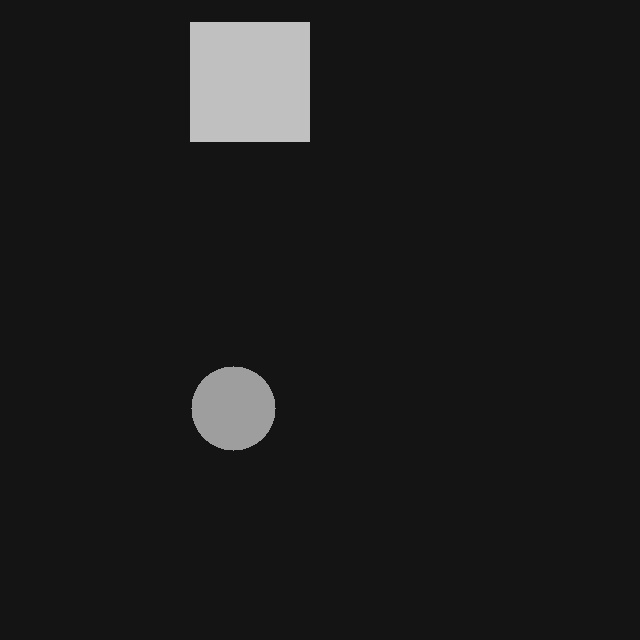circle: (191, 366, 275, 450)
square: (190, 22, 309, 141)
